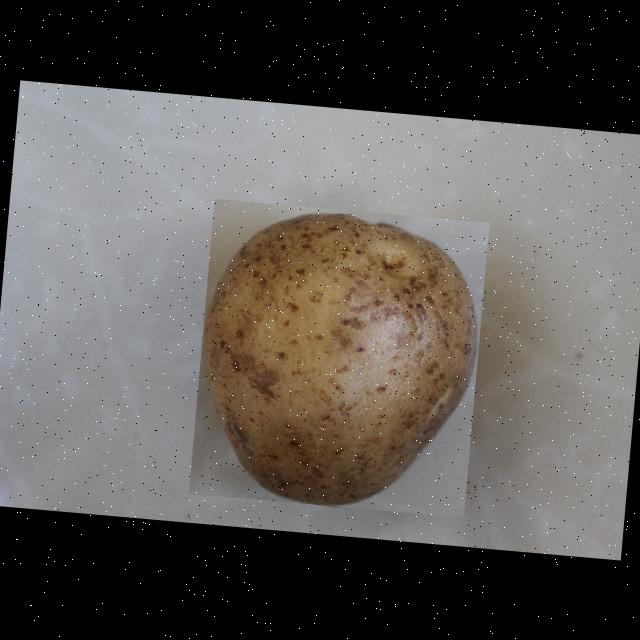Diseased-fungal potato: (188, 198, 490, 518)
